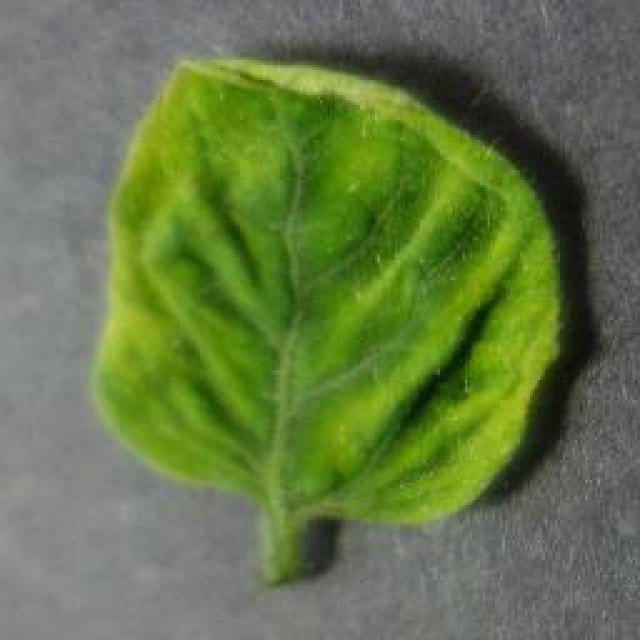Tomato yellow virus leaf: (90, 44, 570, 518)
